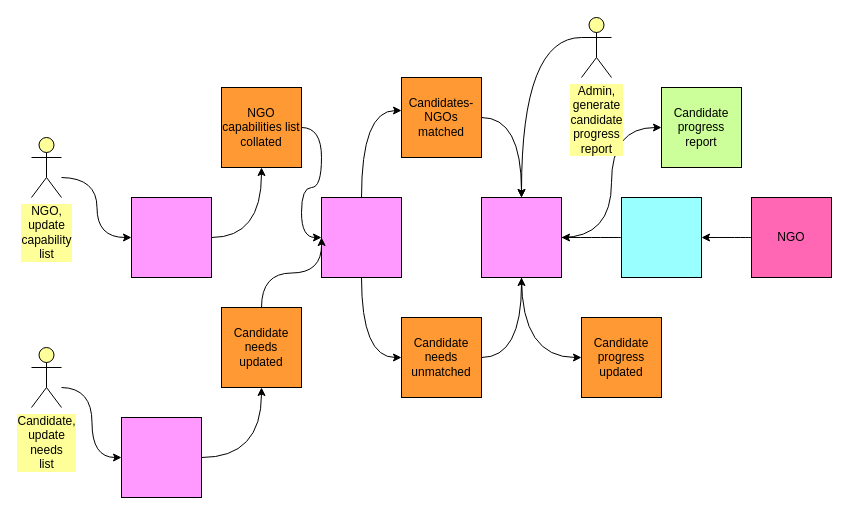
Some shapes in this 849 by 515 pixel diagram are drawn without their labels. Each missing label, with the box of its shape:
Candidate needs: (120, 416, 202, 498)
Candidate tracking: (480, 196, 562, 278)
Capability matching: (320, 196, 402, 278)
NGO capabilities: (130, 196, 212, 278)
Update candidate progress: (620, 196, 702, 278)
